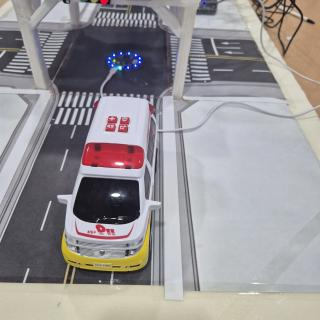Ambulance: (57, 96, 161, 272)
